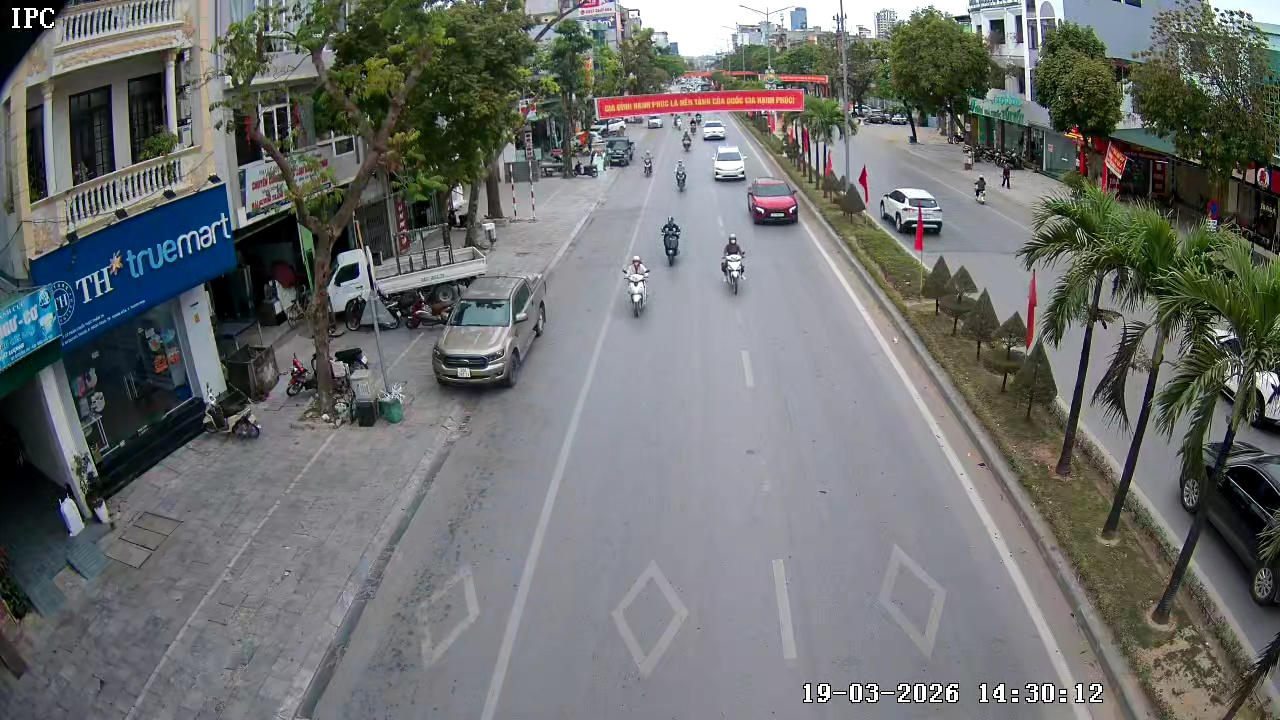car: (430, 274, 544, 388), (879, 186, 945, 236), (745, 176, 800, 226), (712, 144, 748, 183), (702, 119, 726, 144)
motorbike: (621, 254, 652, 320), (720, 232, 748, 296), (658, 214, 683, 268), (673, 157, 689, 194), (640, 149, 654, 177)
